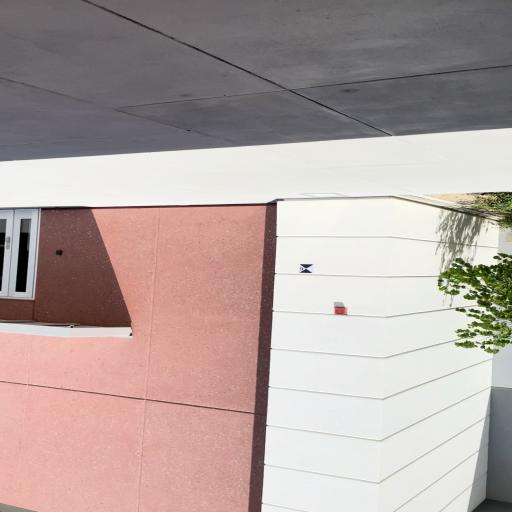target6: (300, 264, 314, 273)
